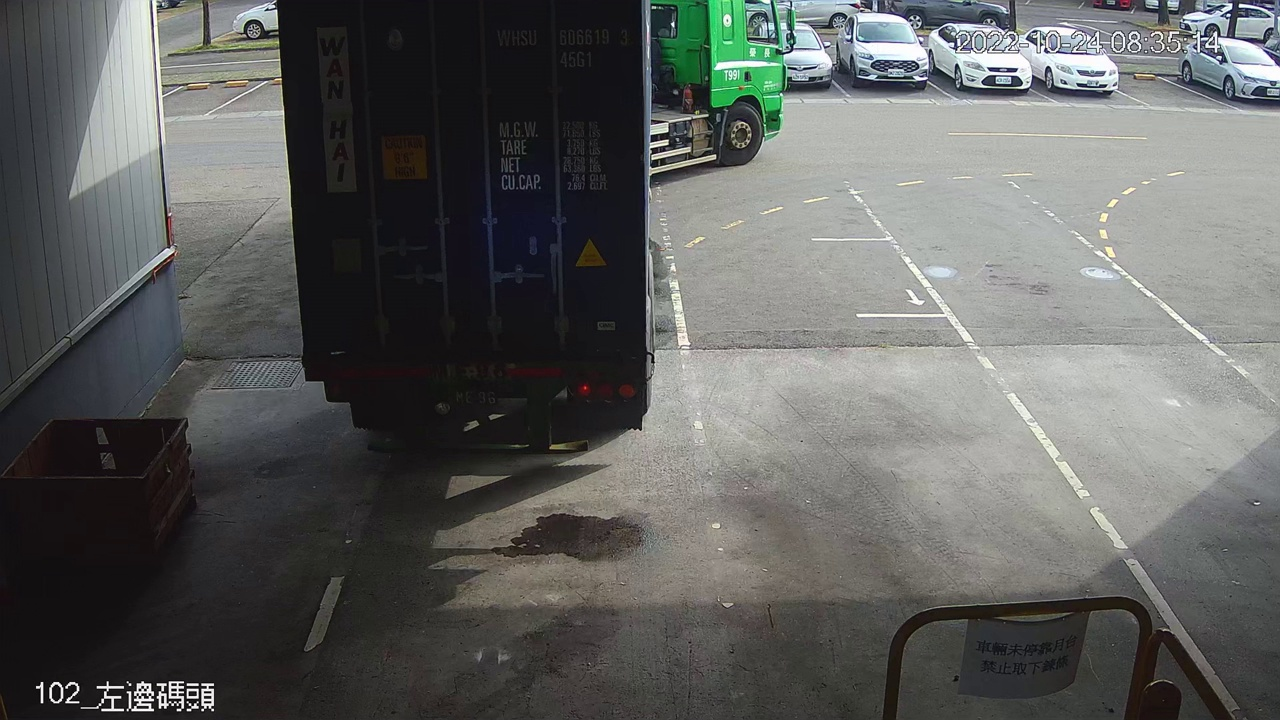container: (490, 17, 636, 75)
